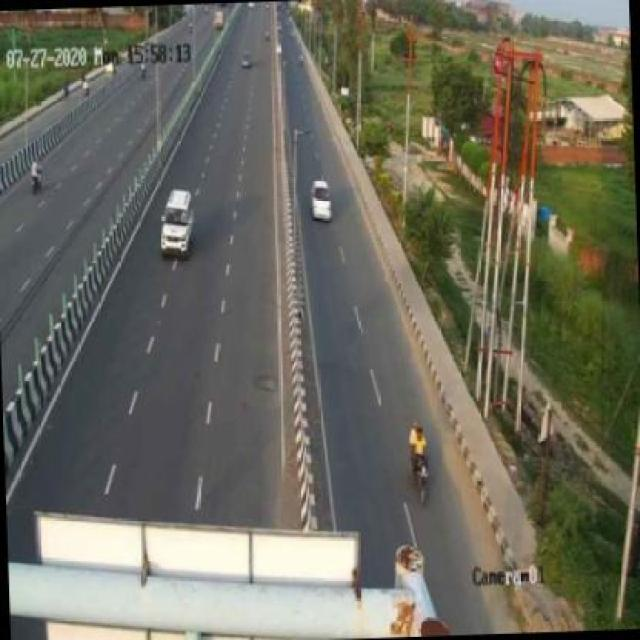car: (155, 184, 200, 258), (305, 171, 337, 229)
